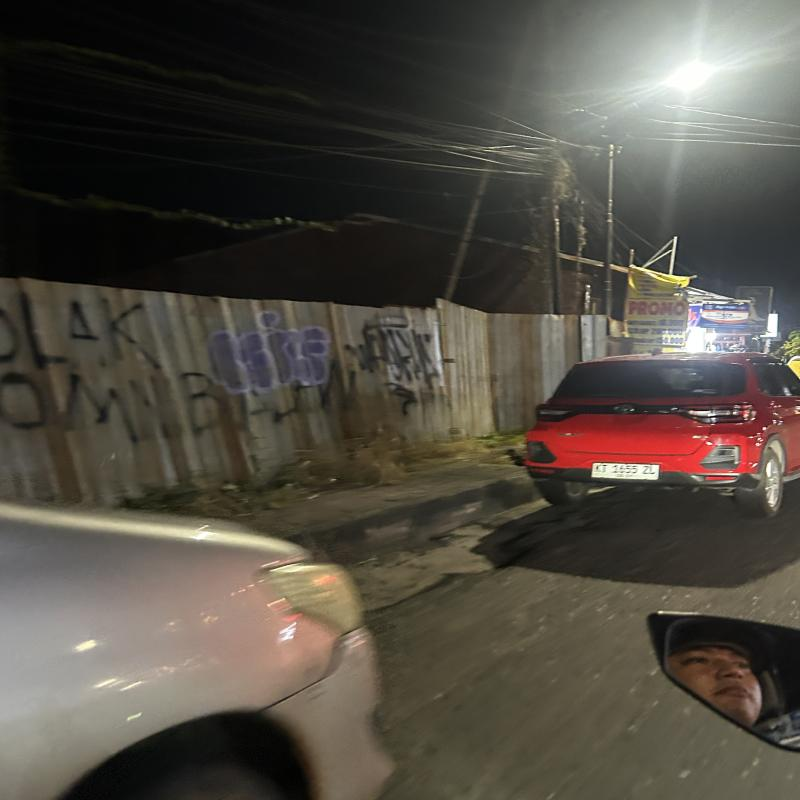license plate on a car: (590, 451, 670, 493)
